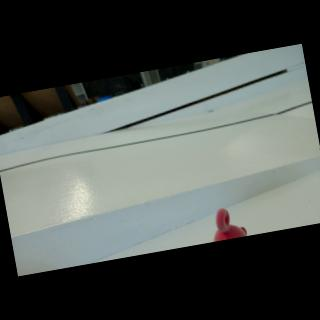teletubby: (214, 208, 247, 242)
